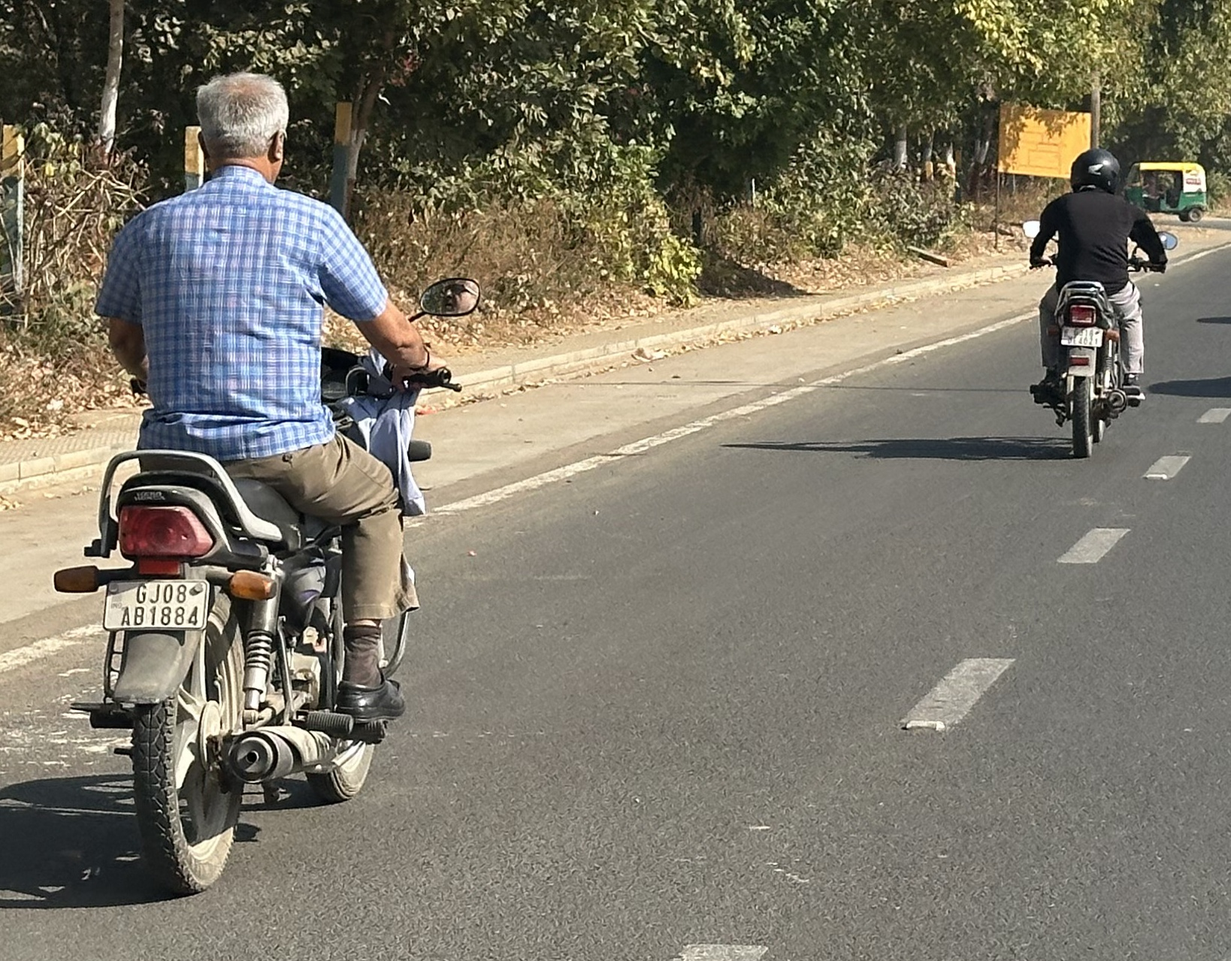BikeWithRider: (43, 61, 485, 901), (1012, 134, 1181, 467)
Helmet: (1060, 141, 1130, 200)
NoHelmet: (185, 65, 302, 191)
